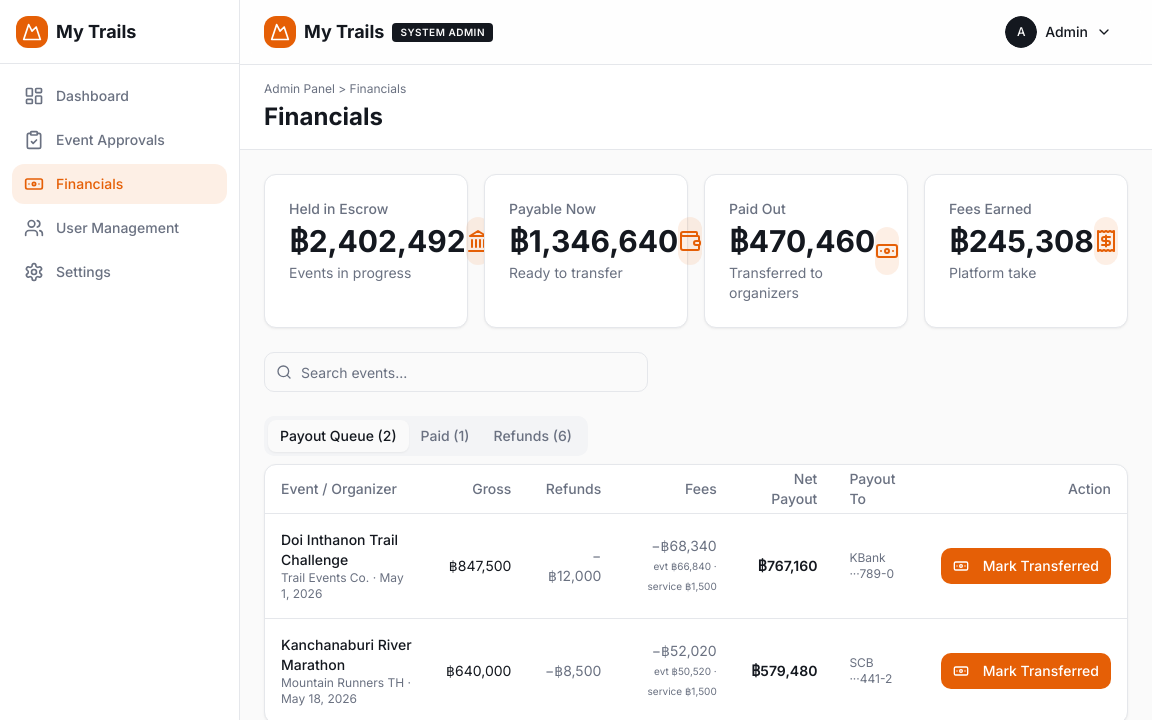
Test: Admin handoff journeys › deep-links to an Admin section and keeps sidebar navigation in the URL
The width and height of the screenshot is (1152, 720).
Check: the heading "Financials" is shown, box [264,102,383,131]
Click the button "Event Approvals".
click(120, 140)  # box [12,120,227,160]
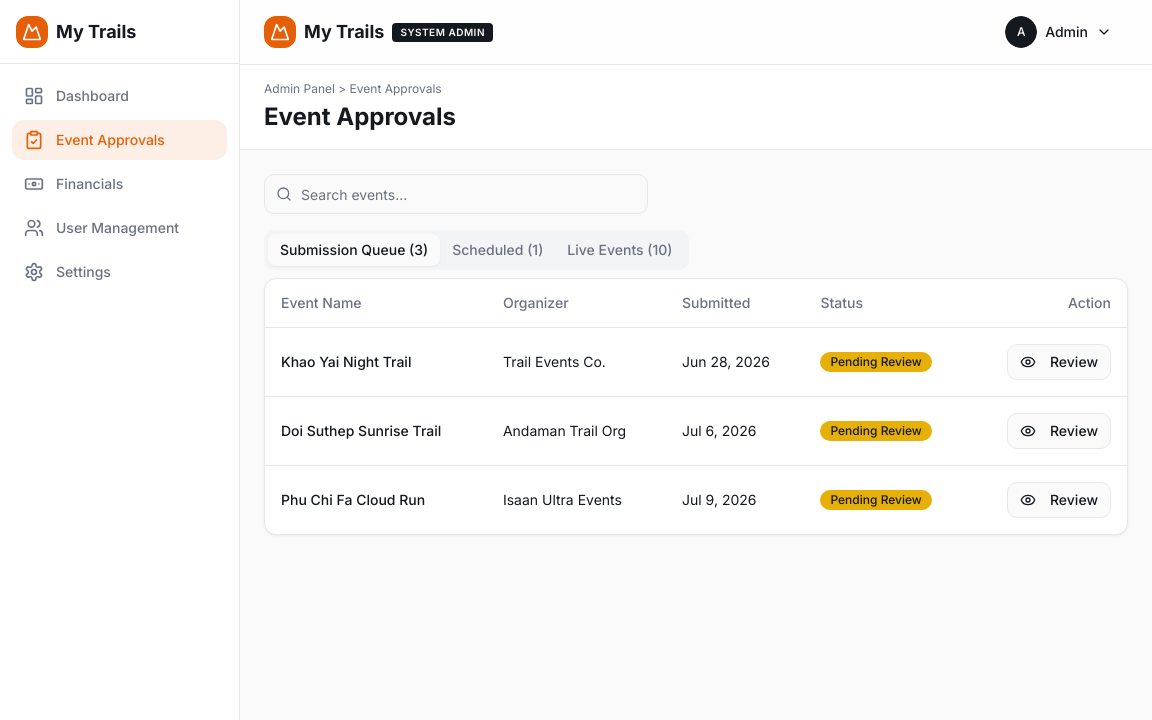
Check: the heading "Event Approvals" is shown, box [264,102,456,131]
